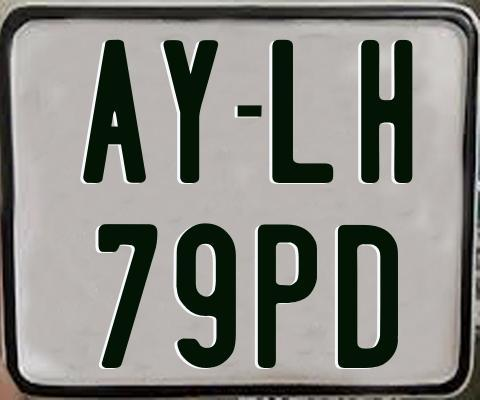7: (97, 222, 162, 367)
9: (174, 222, 237, 372)
A: (82, 39, 146, 188)
D: (338, 224, 399, 370)
H: (359, 37, 417, 185)
L: (271, 40, 336, 185)
P: (256, 223, 315, 367)
Y: (161, 38, 215, 183)
